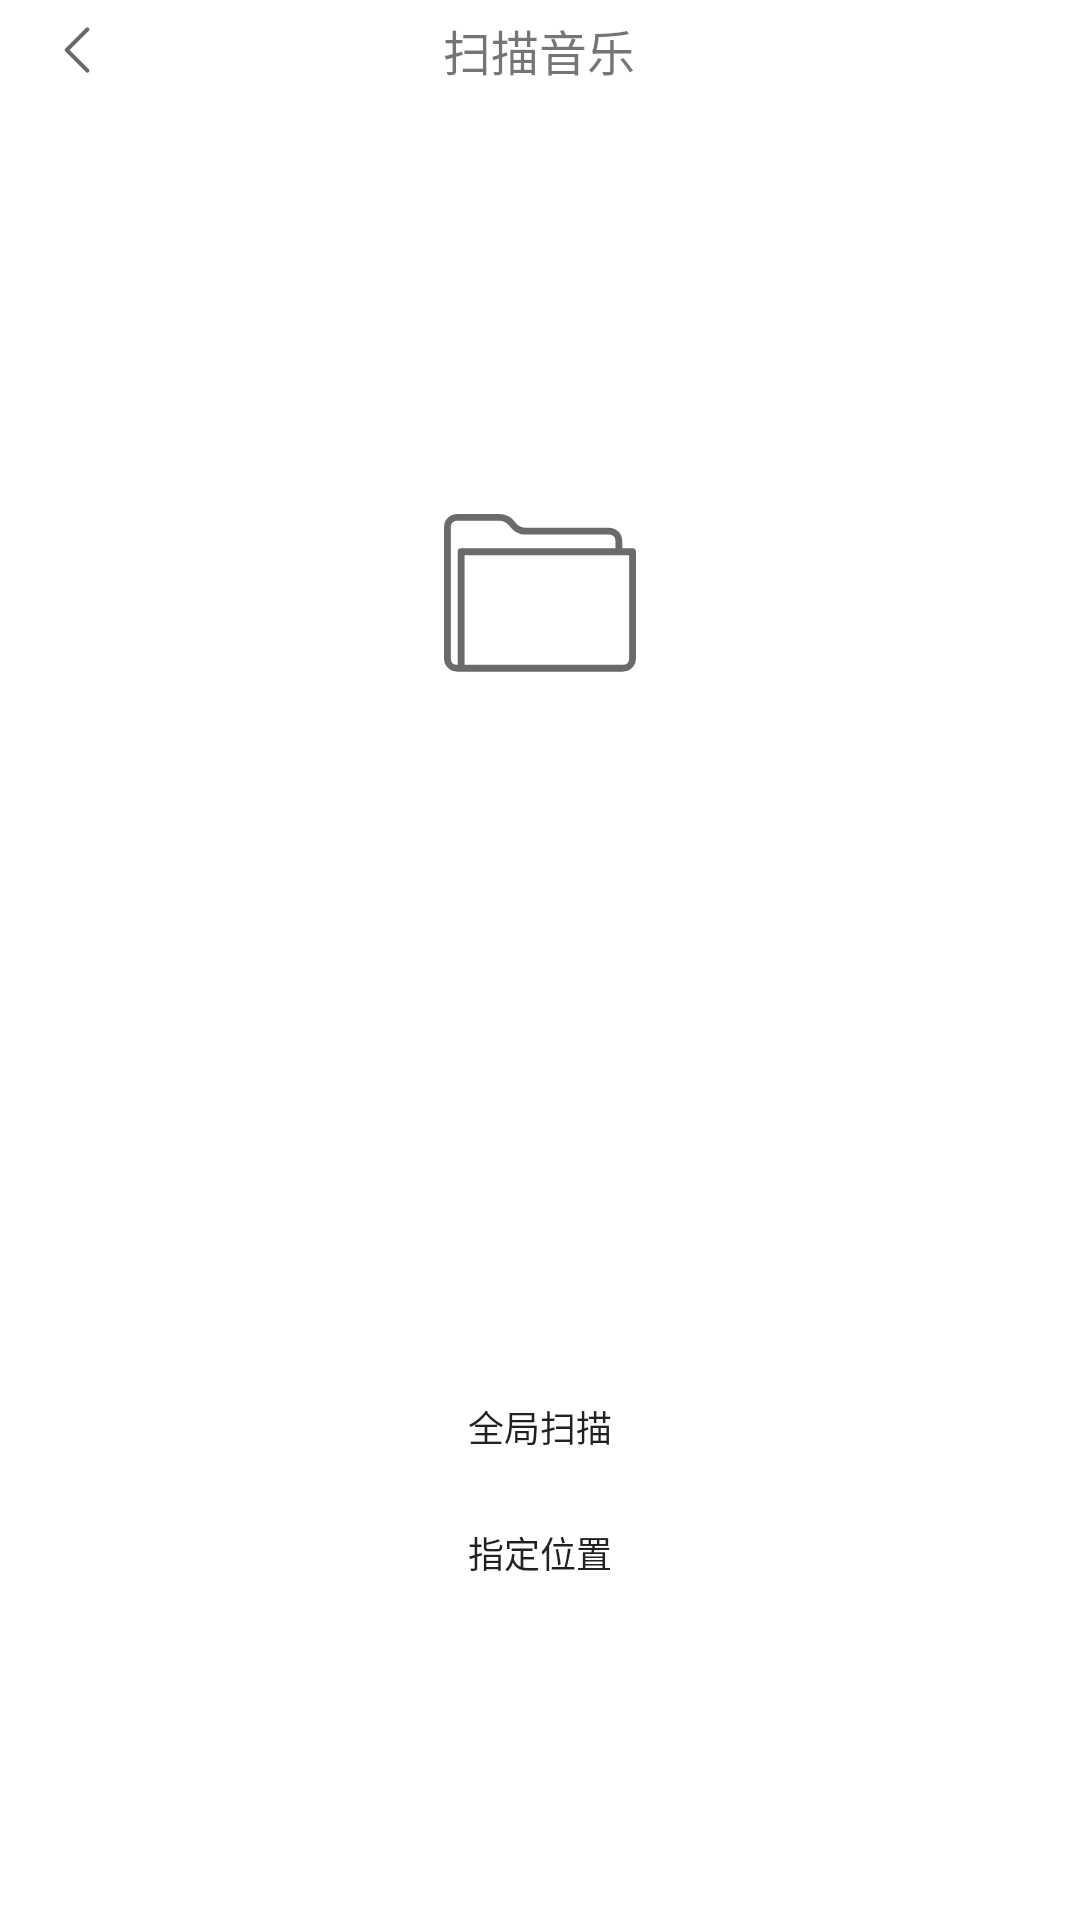

Locate icon controls on the screen. Image size 1080*1920, boxes as (left=x1, top=y1, right=x2, bottom=y2).
back: (left=64, top=27, right=90, bottom=73)
folder: (left=444, top=514, right=636, bottom=672)
